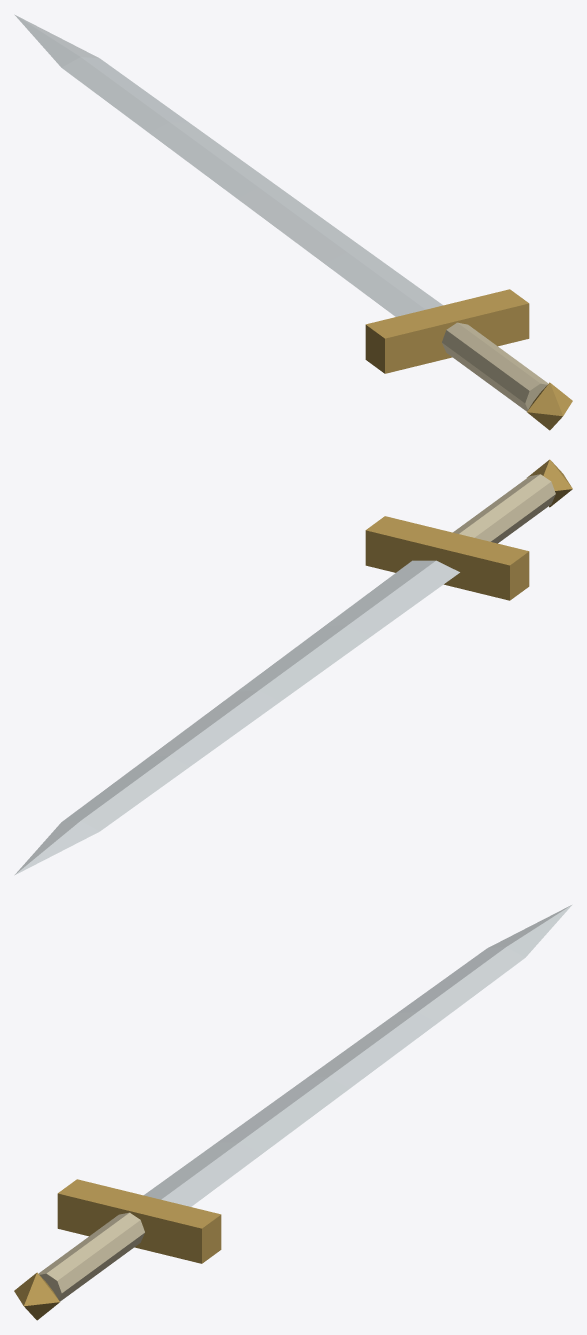
The model's file is bound_sword.glb.
The picture shows the model from 3 angles, top to bottom: view 1: azimuth 30°, elevation 25°; view 2: azimuth 150°, elevation 25°; view 3: azimuth 330°, elevation 25°; orthographic projection.
Parts seen in each view (by area): view 1: BoundSword; view 2: BoundSword; view 3: BoundSword.
Boxes of the visible parts, left/top/right/bottom form: BoundSword: left=14, top=14, right=572, bottom=430; BoundSword: left=14, top=459, right=572, bottom=875; BoundSword: left=14, top=904, right=572, bottom=1320.
Size of the model in its own units: 0.15 by 0.048 by 0.9883.
